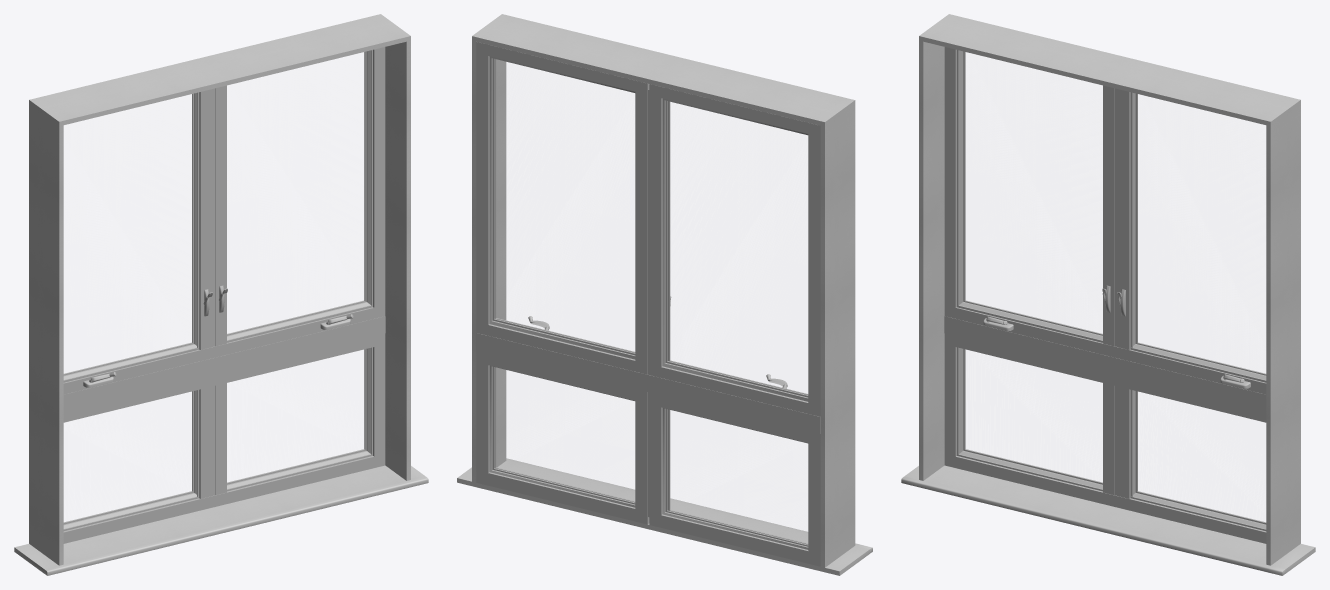
File: window.gltf
3 renders of one model, left to right at view 1: azimuth 30°, elevation 25°; view 2: azimuth 150°, elevation 25°; view 3: azimuth 330°, elevation 25°, orthographic.
Visible parts, largest first — view 1: Mesh_1, Mesh_3; view 2: Mesh_3, Mesh_1; view 3: Mesh_1, Mesh_3.
Boxes of the visible parts, box(x1,y1,x2,y2) form: Mesh_1: box(14, 14, 428, 575); Mesh_3: box(63, 47, 385, 543); Mesh_3: box(476, 42, 820, 566); Mesh_1: box(457, 14, 872, 575); Mesh_1: box(901, 14, 1315, 575); Mesh_3: box(944, 47, 1266, 543).
Size of the model in its own units: 1.74 by 1.96 by 0.2637.
3 materials, 1 textured.
